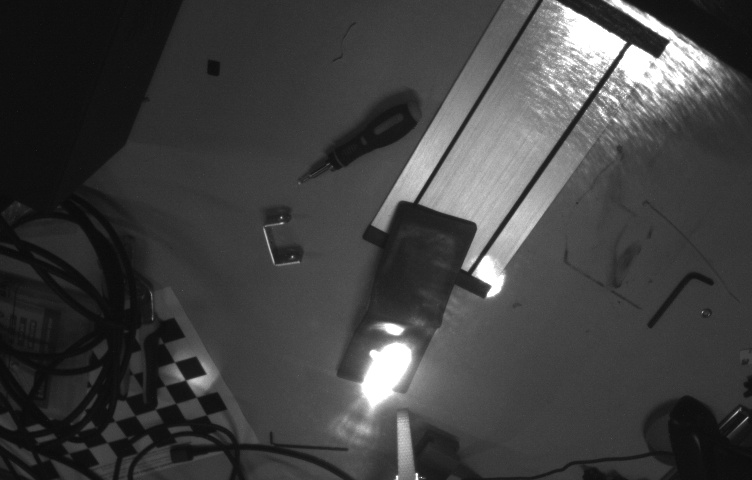Object bifold wallet - Material leather - Pdfname qb3CMu4EyzEc: (347, 343, 412, 391)
